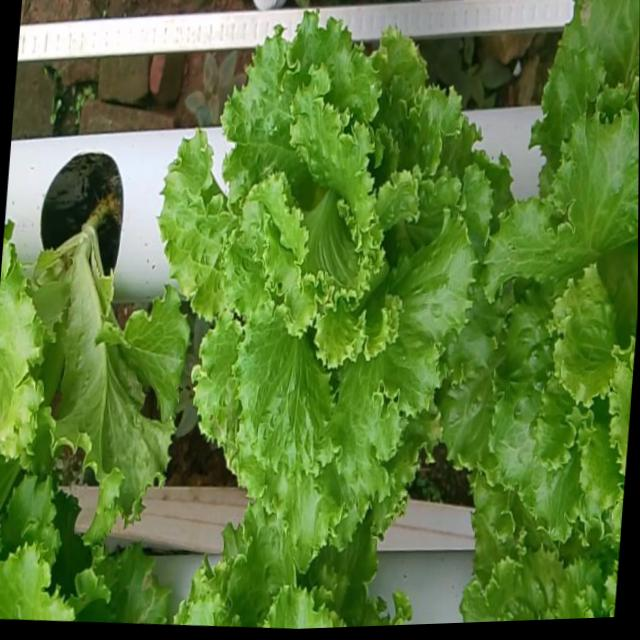Mature: (144, 7, 481, 548), (430, 94, 639, 536)
